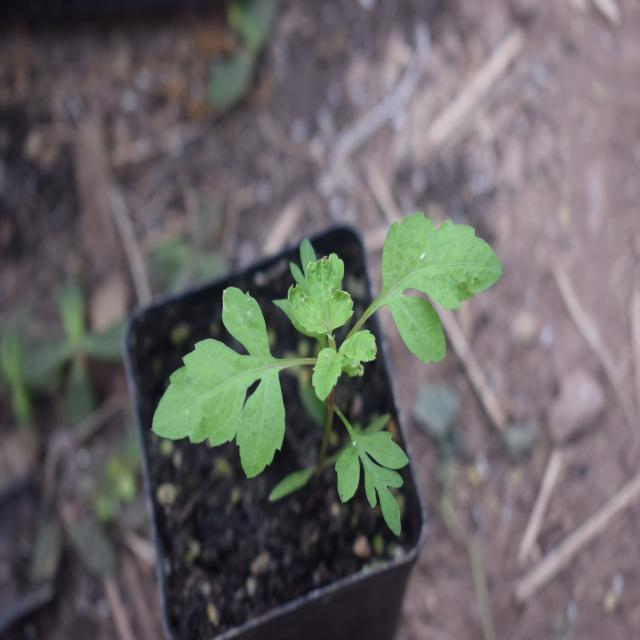Bidens pilosa: (166, 207, 494, 546)
